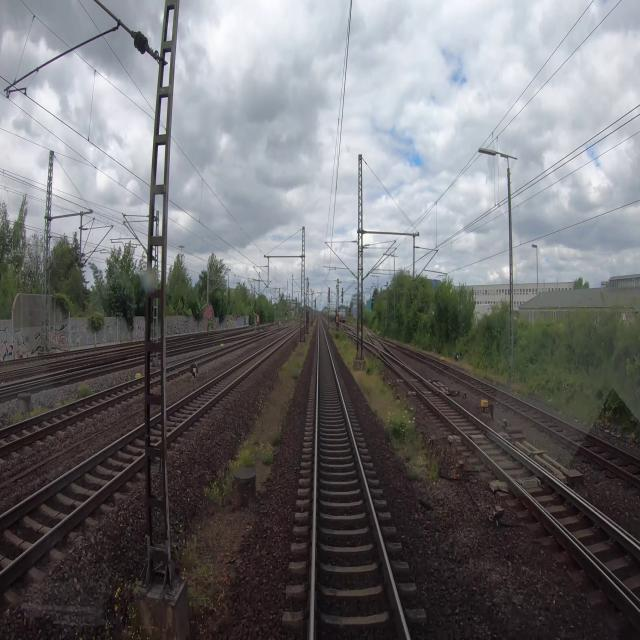Plant: (98, 326, 314, 639), (329, 329, 438, 482), (343, 324, 357, 337), (313, 321, 316, 327)
